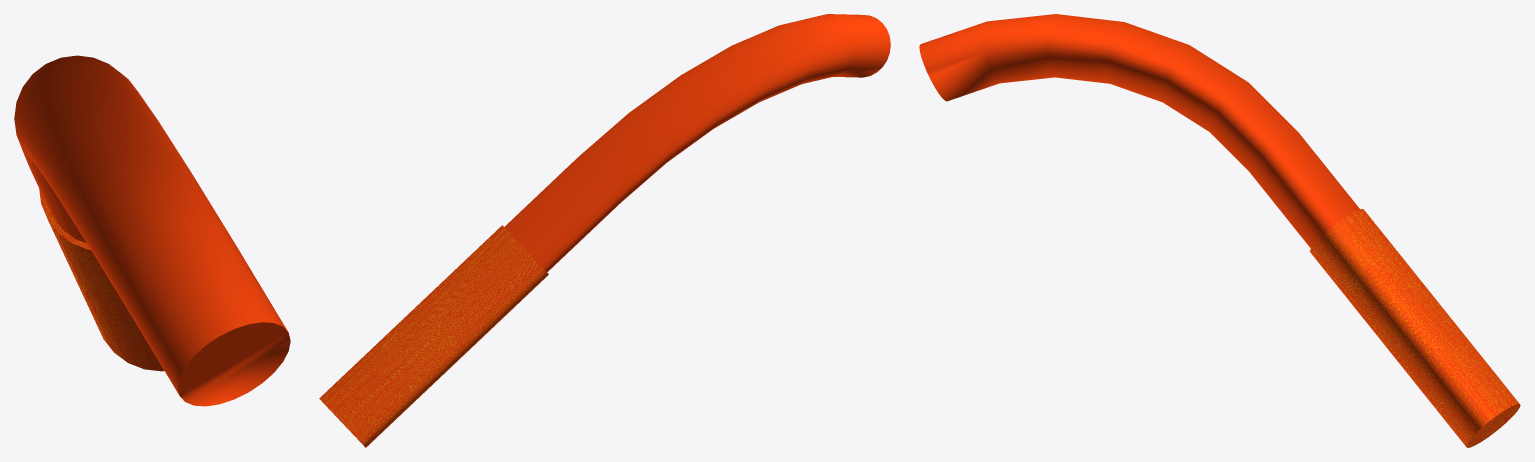
The model's file is original-4.obj.
3 renders of one model, left to right at view 1: azimuth 30°, elevation 25°; view 2: azimuth 150°, elevation 25°; view 3: azimuth 270°, elevation 25°, orthographic. The views are drawn at different scales.
Visible parts, largest first — view 1: Group5/mesh2/mesh2-geometry#mesh2-geometry; view 2: Group5/mesh2/mesh2-geometry#mesh2-geometry; view 3: Group5/mesh2/mesh2-geometry#mesh2-geometry.
Part boxes in pixels (bbox=[...]): Group5/mesh2/mesh2-geometry#mesh2-geometry: bbox=[14, 55, 290, 406]; Group5/mesh2/mesh2-geometry#mesh2-geometry: bbox=[319, 14, 890, 447]; Group5/mesh2/mesh2-geometry#mesh2-geometry: bbox=[919, 14, 1520, 447].
Size of the model in its own units: 0.2031 by 0.2089 by 0.3557.
